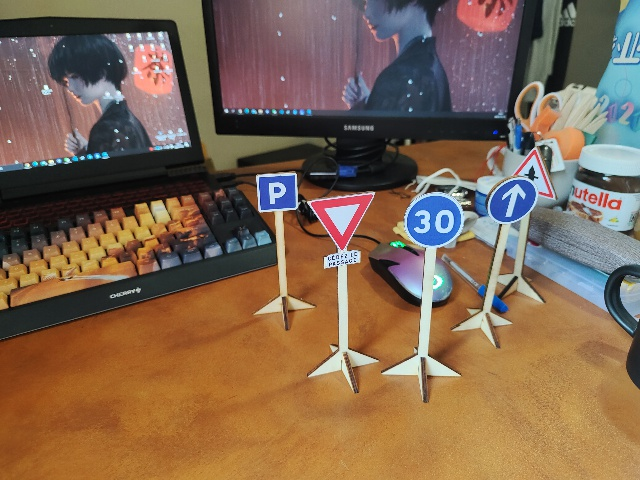P: (253, 168, 302, 214)
first: (510, 148, 557, 199)
second: (307, 187, 377, 269)
straight: (488, 179, 537, 222)
thirty: (406, 193, 465, 250)
